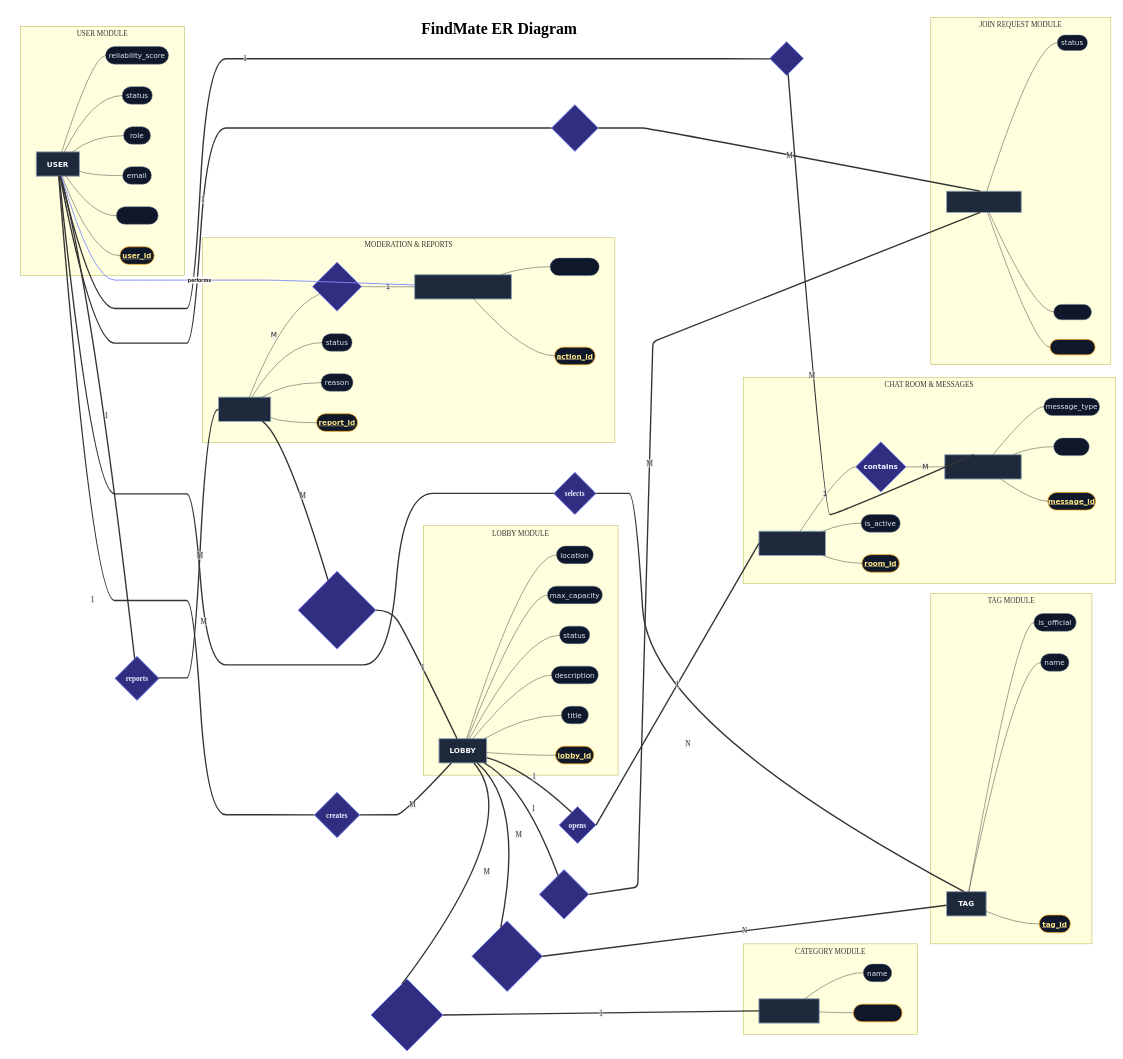
This 1123x1059 diagram has some shape labels left out. Here are the shapes that lost their labels. From the top down, the centre of each, then its label:
At (786,58): "posts".
At (574,128): "submits".
At (137,215): "username".
At (984,202): "JOIN_REQUEST".
At (337,286): "resolves".
At (463,286): "MODERATION_ACTION".
At (574,267): "action_type".
At (1072,312): "message".
At (1072,347): "request_id".
At (244,409): "REPORT".
At (983,466): "CHAT_MESSAGE".
At (1071,447): "content".
At (792,543): "CHAT_ROOM".
At (336,610): "targets_lobby".
At (564,894): "receives".
At (507,956): "tagged_with".
At (406,1014): "classified_as".
At (788,1010): "CATEGORY".
At (877,1013): "category_id".
